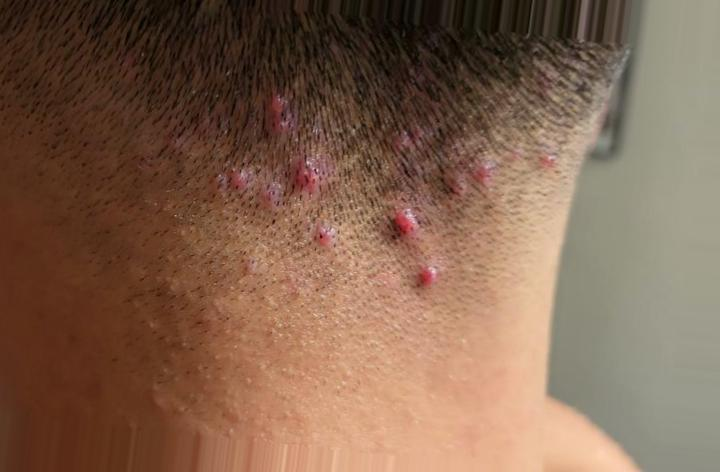Folliculitis: (211, 74, 509, 321)
